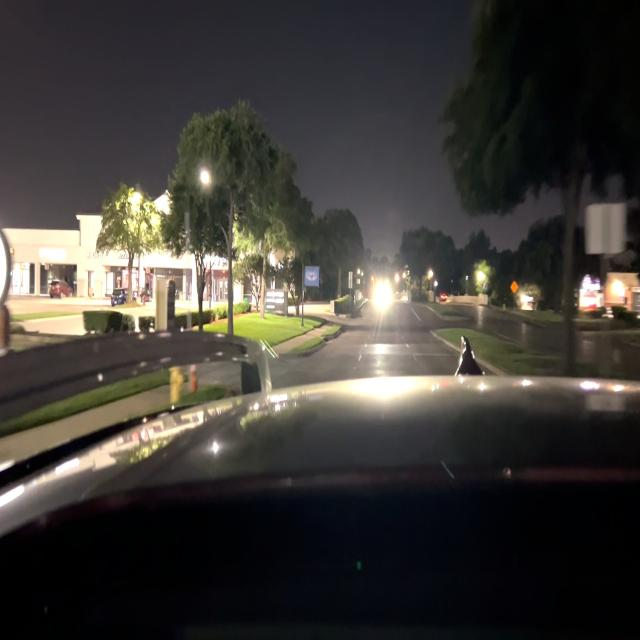back-of-sign: (585, 200, 627, 255)
